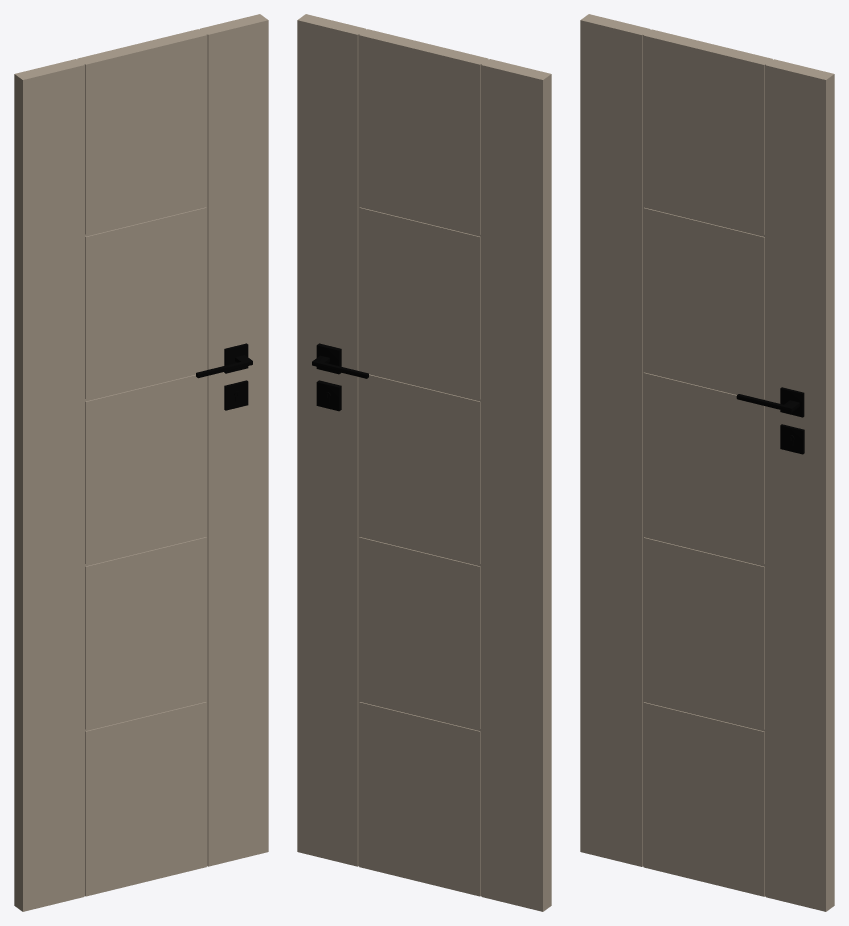
File: SC_1_3a_door.glb
3 renders of one model, left to right at view 1: azimuth 30°, elevation 25°; view 2: azimuth 150°, elevation 25°; view 3: azimuth 330°, elevation 25°, orthographic.
Visible parts, largest first — view 1: SC_1__3a_door__DT_32_1; view 2: SC_1__3a_door__DT_32_1; view 3: SC_1__3a_door__DT_32_1.
Boxes of the visible parts, x1,y1,x2,y2 form: SC_1__3a_door__DT_32_1: (14, 14, 268, 911); SC_1__3a_door__DT_32_1: (297, 14, 551, 911); SC_1__3a_door__DT_32_1: (580, 14, 834, 911).
Size of the model in its own units: 0.5437 by 1.76 by 0.1089.
Materials: 1 (1 with a texture image).
